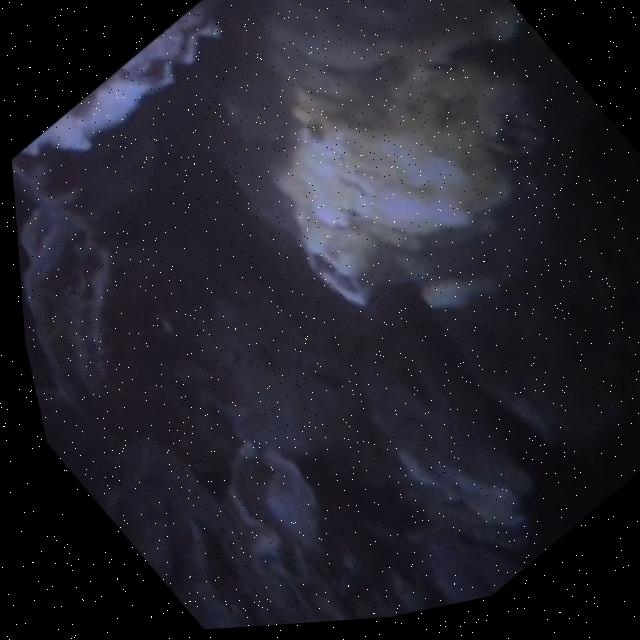Oyster-Indeterminate: (216, 0, 606, 304), (29, 0, 235, 162), (17, 201, 140, 450)
Oyster-Open: (347, 285, 515, 514), (222, 436, 326, 585)
